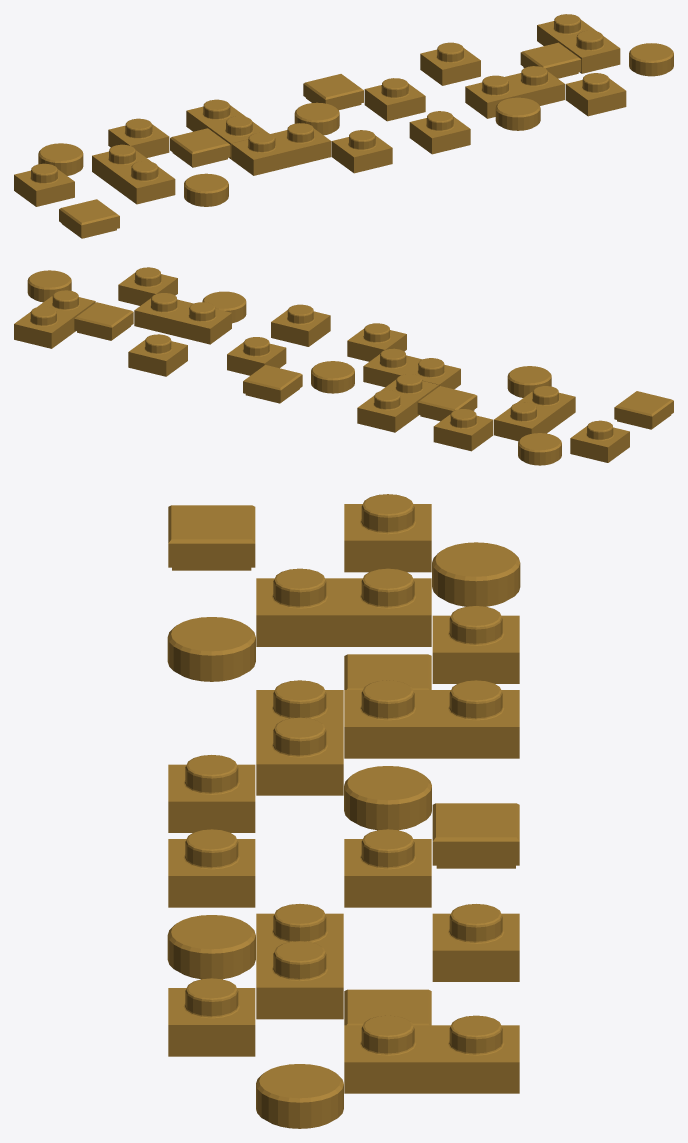
The model's file is GreebleFloor.dae.
The picture shows the model from 3 angles, top to bottom: view 1: azimuth 30°, elevation 25°; view 2: azimuth 150°, elevation 25°; view 3: azimuth 270°, elevation 25°; orthographic projection. The views are drawn at different scales.
Visible parts, largest first — view 1: Part.3, Part.1, Part.8, Part.9, Part.4, Part.5, Part.6, Part.11, Part.7, Part.10, Part.0, Part.12 (+9 smaller); view 2: Part.8, Part.1, Part.4, Part.9, Part.3, Part.2, Part.7, Part.10, Part.0, Part.12, Part.13, Part.14 (+9 smaller); view 3: Part.4, Part.9, Part.1, Part.8, Part.3, Part.6, Part.7, Part.11, Part.10, Part.0, Part.2, Part.5 (+9 smaller).
Part boxes in pixels (bbox=[...]): Part.3: bbox=[231, 123, 331, 175]; Part.1: bbox=[92, 144, 175, 204]; Part.8: bbox=[465, 66, 564, 118]; Part.9: bbox=[537, 14, 620, 73]; Part.4: bbox=[186, 99, 268, 159]; Part.5: bbox=[331, 130, 392, 173]; Part.6: bbox=[364, 78, 425, 121]; Part.11: bbox=[565, 73, 626, 116]; Part.7: bbox=[409, 111, 470, 154]; Part.10: bbox=[420, 42, 480, 85]; Part.0: bbox=[14, 163, 74, 206]; Part.12: bbox=[59, 199, 119, 238]; Part.8: bbox=[134, 293, 231, 344]; Part.1: bbox=[494, 386, 575, 441]; Part.4: bbox=[357, 374, 438, 432]; Part.9: bbox=[14, 290, 95, 348]; Part.3: bbox=[363, 348, 460, 389]; Part.2: bbox=[433, 409, 493, 451]; Part.7: bbox=[271, 304, 330, 346]; Part.10: bbox=[128, 334, 187, 376]; Part.0: bbox=[570, 420, 629, 462]; Part.12: bbox=[614, 391, 673, 429]; Part.13: bbox=[243, 365, 302, 403]; Part.14: bbox=[74, 302, 133, 340]; Part.4: bbox=[344, 680, 519, 758]; Part.9: bbox=[344, 1015, 519, 1093]; Part.1: bbox=[256, 568, 431, 646]; Part.8: bbox=[256, 904, 343, 1019]; Part.3: bbox=[256, 680, 343, 795]; Part.6: bbox=[344, 829, 431, 907]; Part.7: bbox=[168, 829, 255, 907]; Part.11: bbox=[168, 978, 255, 1056]; Part.10: bbox=[432, 904, 519, 981]; Part.0: bbox=[344, 494, 431, 572]; Part.2: bbox=[432, 606, 519, 683]; Part.5: bbox=[168, 755, 255, 832].
Bounding box in the file's own units: 128 × 4.98 × 32.
